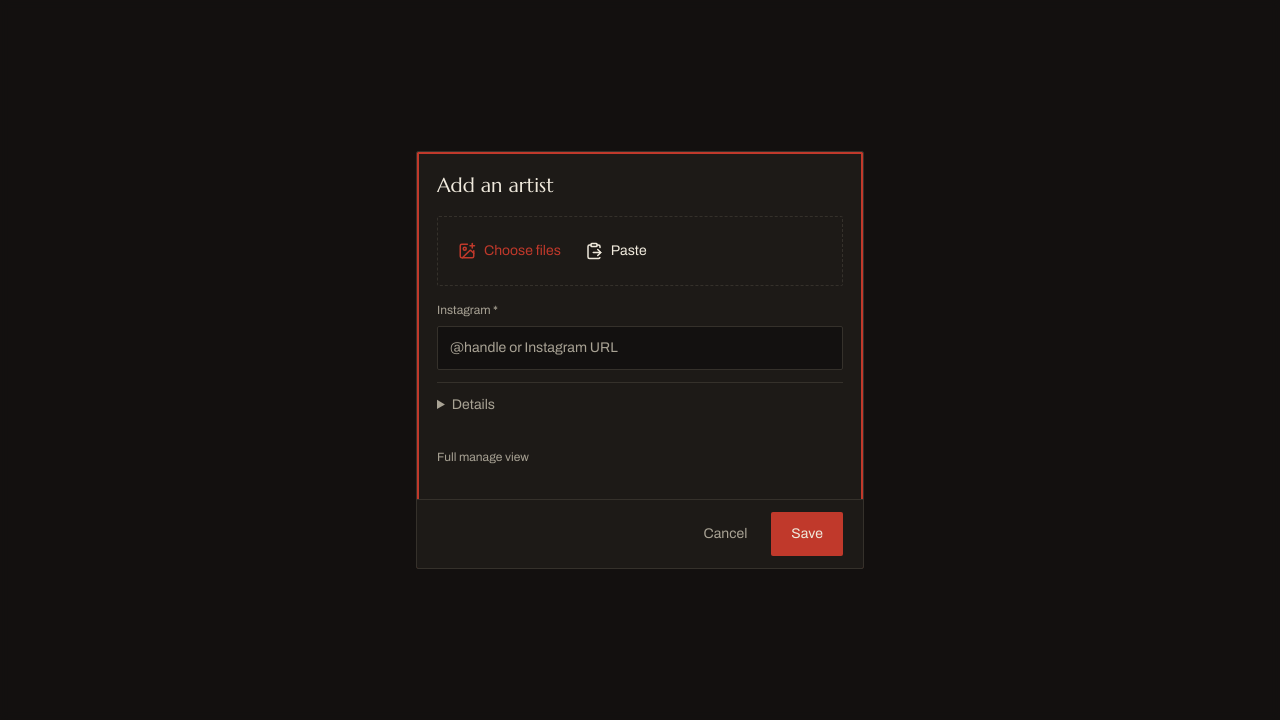
it: compact capture › disables duplicate append with no photos
Step 1. Type "mora.blackfern" into the field with placeholder "@handle or Instagram URL" → (640, 348), box [437,326,843,370]
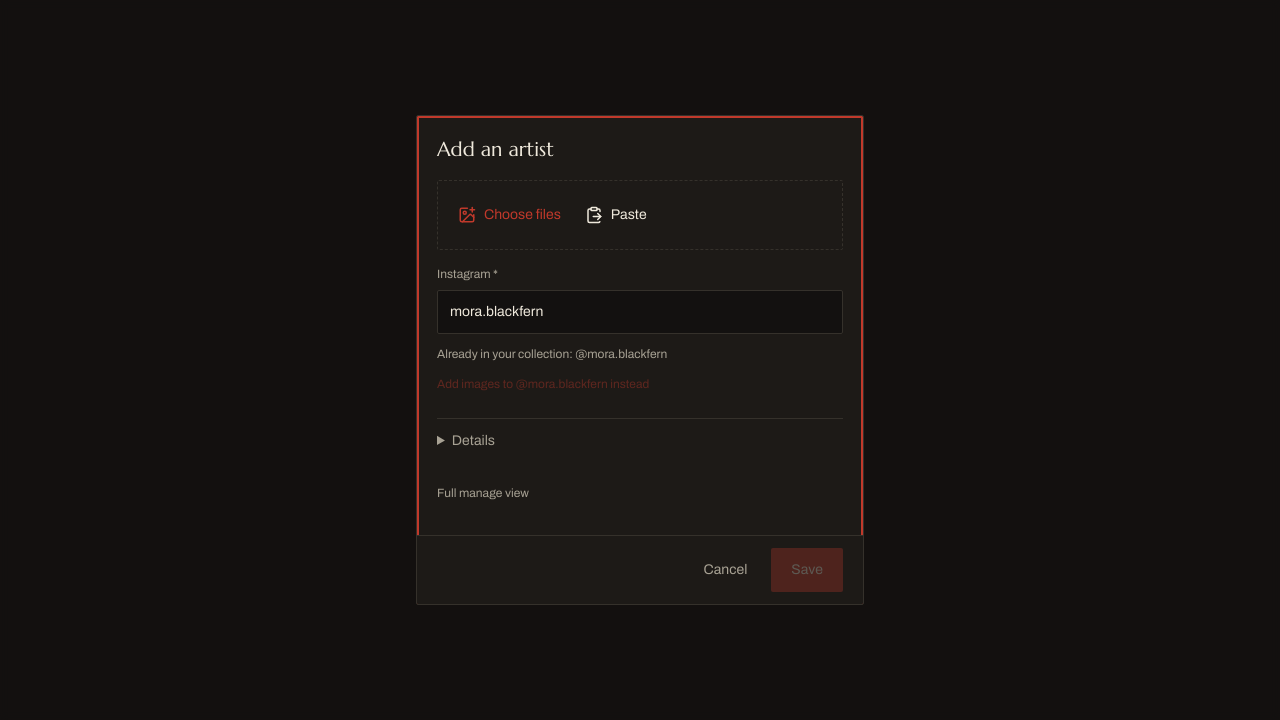
expect the button "Add images to @mora.blackfern instead" is disabled: met, box [437,362,649,406]
